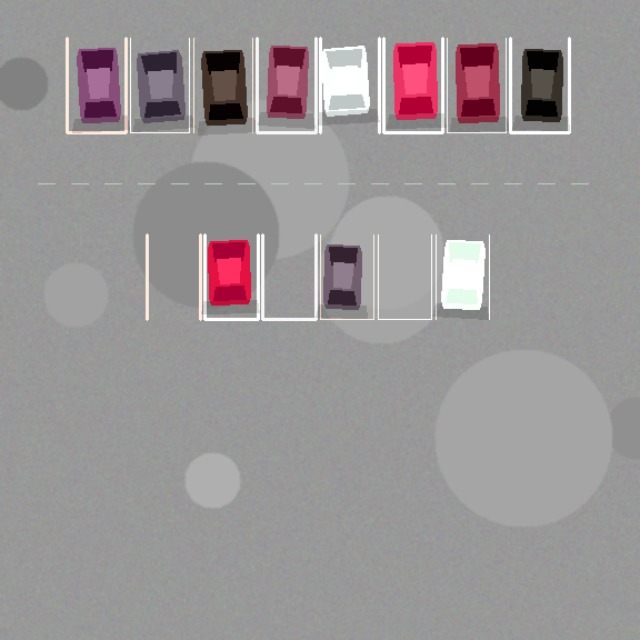space-empty: (262, 234, 316, 319), (147, 234, 200, 319), (378, 234, 431, 319)
space-occupied: (67, 38, 126, 132), (130, 38, 189, 132), (193, 38, 252, 132), (257, 38, 316, 132), (320, 38, 379, 132), (383, 38, 442, 132), (447, 38, 506, 132), (510, 38, 569, 132), (204, 234, 258, 319), (320, 234, 373, 319), (436, 234, 489, 319)
